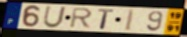6: (21, 4, 42, 28)
9: (146, 11, 164, 32)
I: (124, 8, 137, 32)
R: (68, 7, 95, 29)
T: (97, 8, 116, 31)
U: (42, 5, 68, 29)
